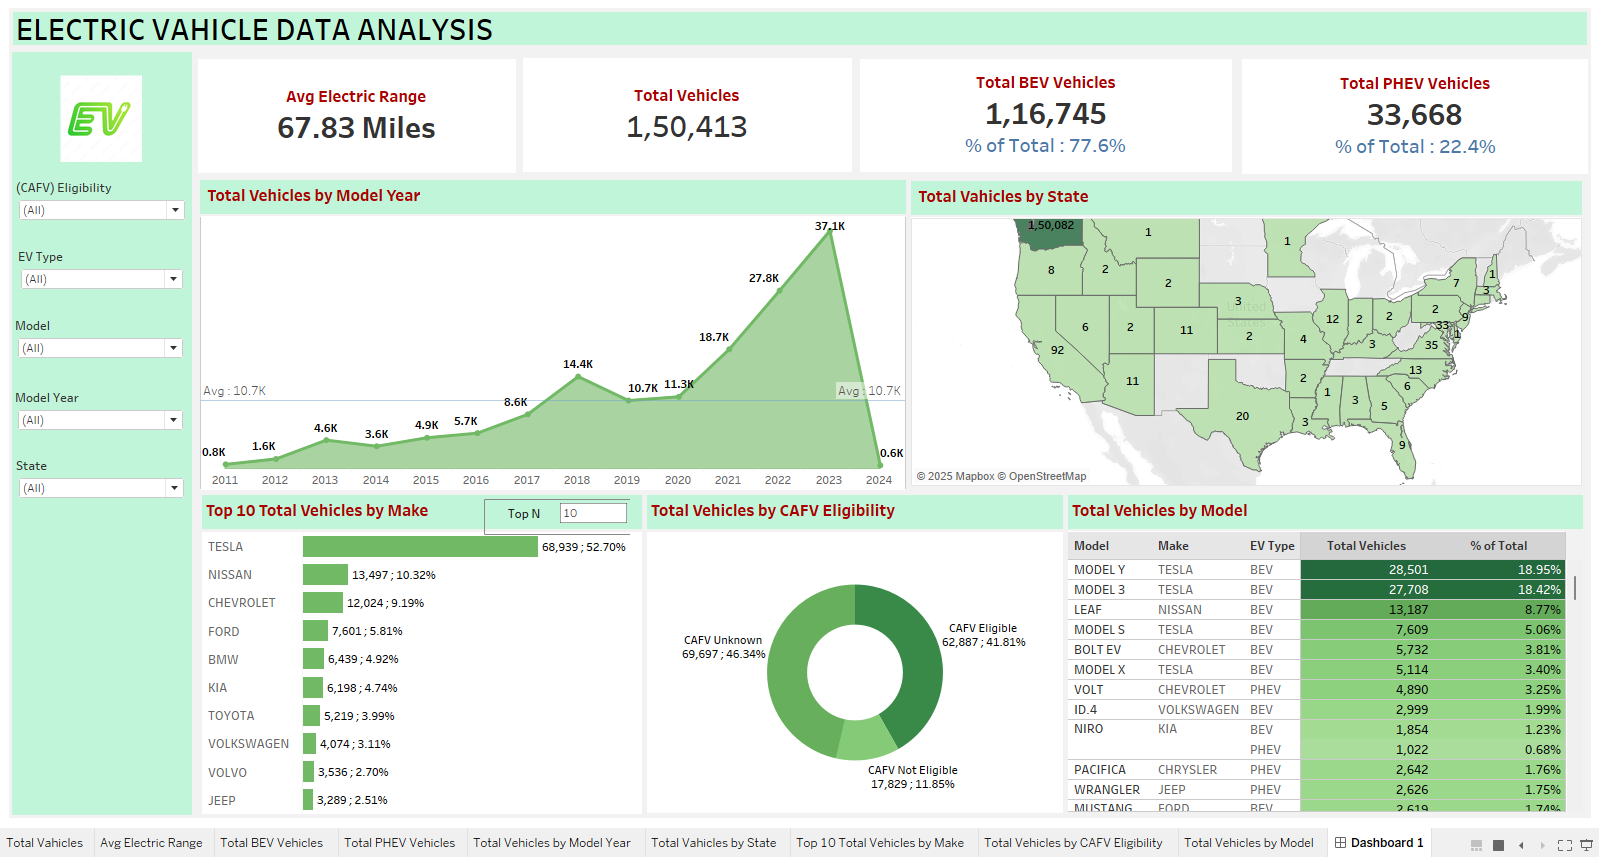

The page's visual inventory and layout, read from the dashboard file:
{"tool":"tableau","page":{"name":"Dashboard 1","canvas":[1000,1000],"units":"permille","ordinal":0},"visuals":[{"type":"title","box":[5.8,11.8,988.5,60.6]},{"type":"worksheet","title":"Total Vahicles","mark":"Automatic","box":[326.9,72.5,205.9,137.6]},{"type":"worksheet","title":"Avg Electric Range","mark":"Automatic","box":[123.8,74,198.7,137.6]},{"type":"worksheet","title":"Total BEV Vehicles ","mark":"Automatic","box":[537.8,74,232.5,139.1]},{"type":"worksheet","title":"Total PHEV Vehicles","mark":"Automatic","box":[776.1,74,216.7,139.1]},{"type":"blank","box":[7.9,76.9,112.3,906.8]},{"type":"image","param":"Image/1000_F_530210302_NiIiUGGR5qg0QCsFwiUccK76MX9OaC85.jpg","box":[10.3,93.2,106.6,104.5]},{"type":"worksheet","title":"Total Vehicles by Model Year","mark":"Area","rows":["Calculation_1596526115552354304","Calculation_1596526115552354304"],"cols":["Model Year"],"box":[123.1,216,444.9,380.2]},{"type":"filter","title":"Total Vehicles by Model Year","param":"[federated.046q7j710widqf17iygr90tm1o95].[none:Clean Alternative Fuel Vehicle (C","box":[10.3,218.7,107.4,78.8]},{"type":"worksheet","title":"Total Vahicles by State","mark":"Multipolygon","box":[569.5,220.4,423.3,371.3]},{"type":"filter","title":"Total Vehicles by Model Year","param":"[federated.046q7j710widqf17iygr90tm1o95].[none:Electric Vehicle Type:nk]","box":[11,300.6,105.2,82]},{"type":"filter","title":"Total Vehicles by Model Year","param":"[federated.046q7j710widqf17iygr90tm1o95].[none:Model:nk]","box":[9.6,384.2,106.6,75.6]},{"type":"filter","title":"Total Vehicles by Model Year","param":"[federated.046q7j710widqf17iygr90tm1o95].[none:Model Year:ok]","box":[9.6,471.1,106.6,80.4]},{"type":"filter","title":"Total Vehicles by Model Year","param":"[federated.046q7j710widqf17iygr90tm1o95].[none:State:nk]","box":[10.3,553.1,106.6,88.4]},{"type":"worksheet","title":"Top 10 Total Vehicles by Make","mark":"Automatic","rows":["Make"],"cols":["Calculation_1596526115552354304"],"box":[126,599.1,275,384.6]},{"type":"worksheet","title":"Total Vehicles by CAFV Eligibility ","mark":"Pie","rows":["Calculation_683702767168442369","Calculation_683702767168528387"],"box":[404.6,599.1,259.9,383.1]},{"type":"worksheet","title":"Total Vehicles by Model","mark":"Square","rows":["Model","Make","Electric Vehicle Type"],"box":[667.4,599.1,321.8,381.7]},{"type":"parameter","param":"[Parameters].[Parameter 1]","box":[302.3,603.6,91.6,42.9]}]}

Visuals, with their boxes on the dashboard's canvas, which has no fixed pixel size, in thousandths of its width and height (x1, y1, x2, y2). These are canvas units, not pixel positions in the 1599x857 screenshot, which may show the page scaled, cropped or inside an application window:
title: {"x1": 6, "y1": 12, "x2": 994, "y2": 72}
"Total Vahicles" worksheet: {"x1": 327, "y1": 72, "x2": 533, "y2": 210}
"Avg Electric Range" worksheet: {"x1": 124, "y1": 74, "x2": 322, "y2": 212}
"Total BEV Vehicles " worksheet: {"x1": 538, "y1": 74, "x2": 770, "y2": 213}
"Total PHEV Vehicles" worksheet: {"x1": 776, "y1": 74, "x2": 993, "y2": 213}
blank: {"x1": 8, "y1": 77, "x2": 120, "y2": 984}
image: {"x1": 10, "y1": 93, "x2": 117, "y2": 198}
"Total Vehicles by Model Year" worksheet (Area marks): {"x1": 123, "y1": 216, "x2": 568, "y2": 596}
"Total Vehicles by Model Year" filter: {"x1": 10, "y1": 219, "x2": 118, "y2": 298}
"Total Vahicles by State" worksheet (Multipolygon marks): {"x1": 570, "y1": 220, "x2": 993, "y2": 592}
"Total Vehicles by Model Year" filter: {"x1": 11, "y1": 301, "x2": 116, "y2": 383}
"Total Vehicles by Model Year" filter: {"x1": 10, "y1": 384, "x2": 116, "y2": 460}
"Total Vehicles by Model Year" filter: {"x1": 10, "y1": 471, "x2": 116, "y2": 552}
"Total Vehicles by Model Year" filter: {"x1": 10, "y1": 553, "x2": 117, "y2": 642}
"Top 10 Total Vehicles by Make" worksheet: {"x1": 126, "y1": 599, "x2": 401, "y2": 984}
"Total Vehicles by CAFV Eligibility " worksheet (Pie marks): {"x1": 405, "y1": 599, "x2": 664, "y2": 982}
"Total Vehicles by Model" worksheet (Square marks): {"x1": 667, "y1": 599, "x2": 989, "y2": 981}
parameter: {"x1": 302, "y1": 604, "x2": 394, "y2": 646}
